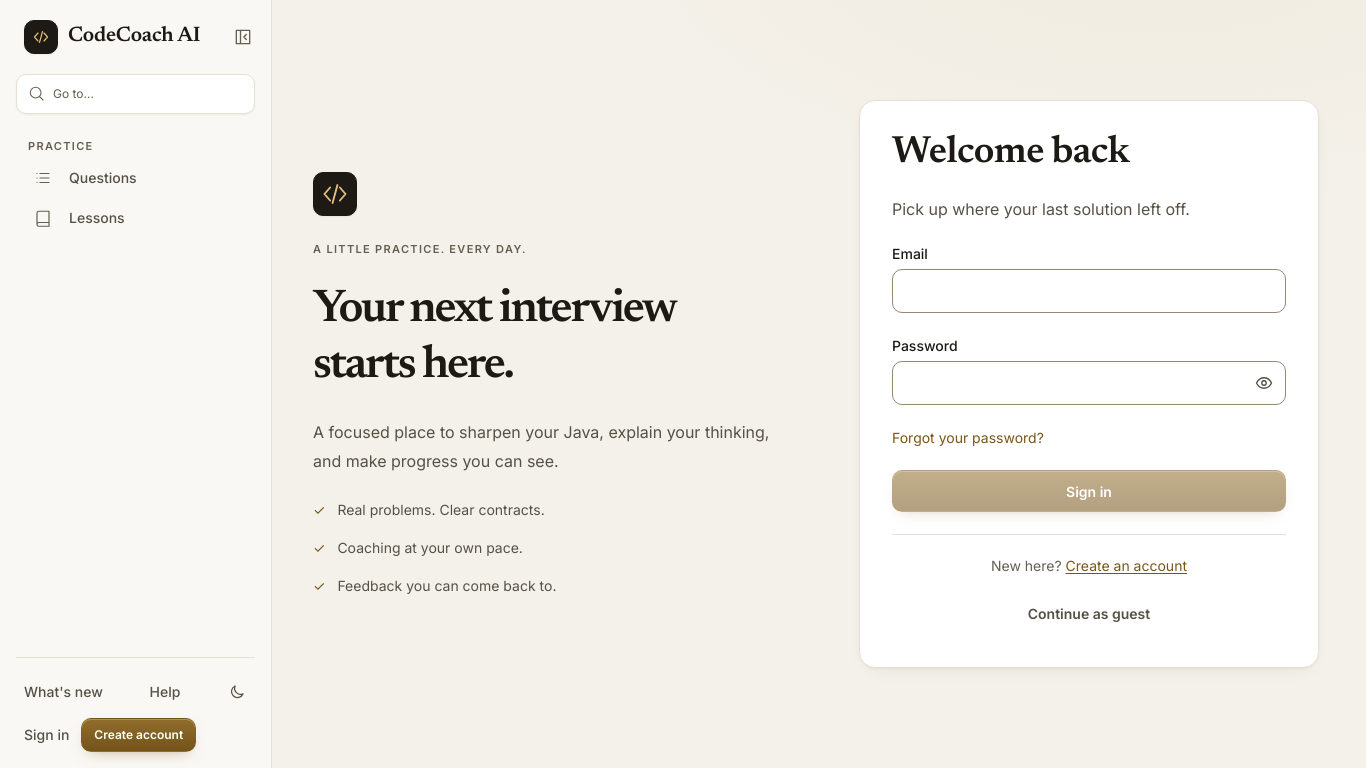
Authentication › shows the generic login error
The image size is (1366, 768).
Type "a@example.com" into the field labelled "Email". click: [1089, 291]
box: [892,269,1286,313]
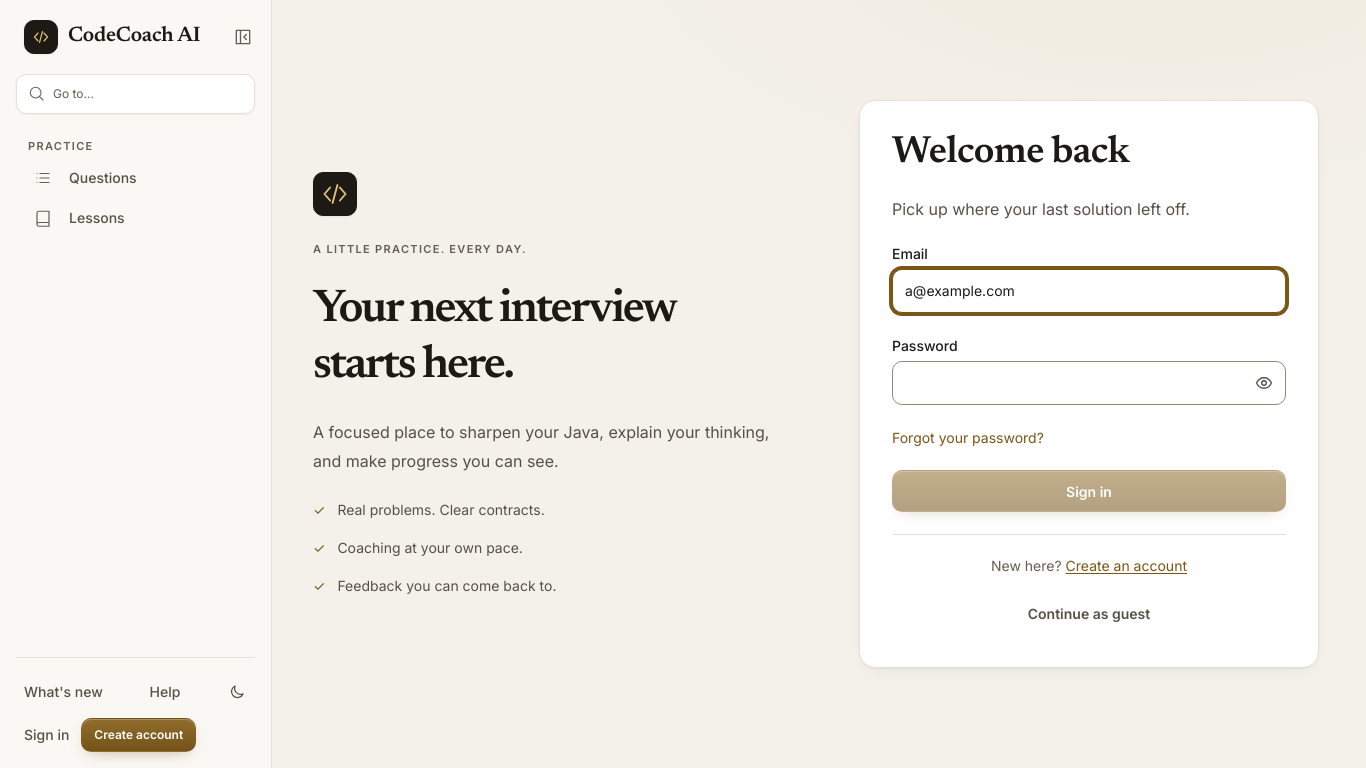
Type "nope" into the password field labelled "Password". click: [1089, 383]
box: [892,361,1286,405]
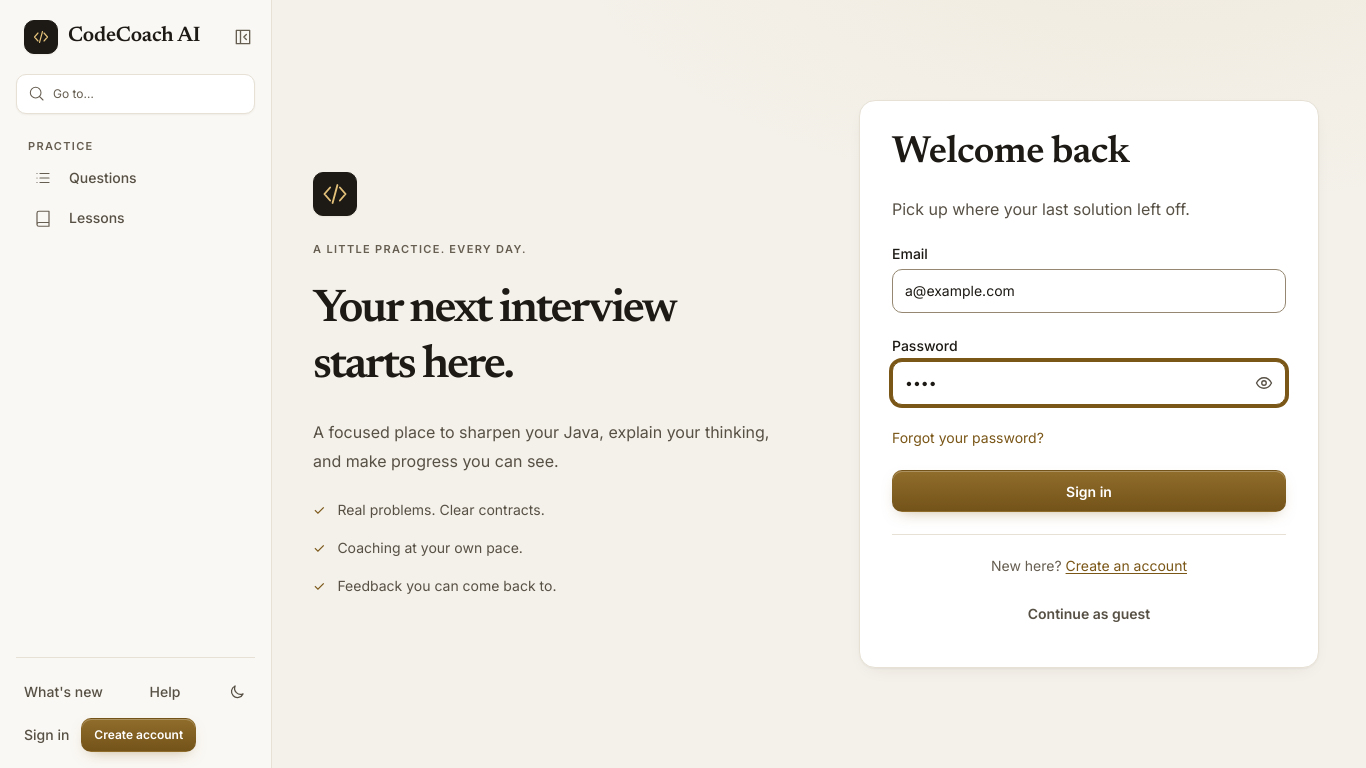
Click the button "Sign in". click: [1089, 492]
box: [892,470,1286,512]
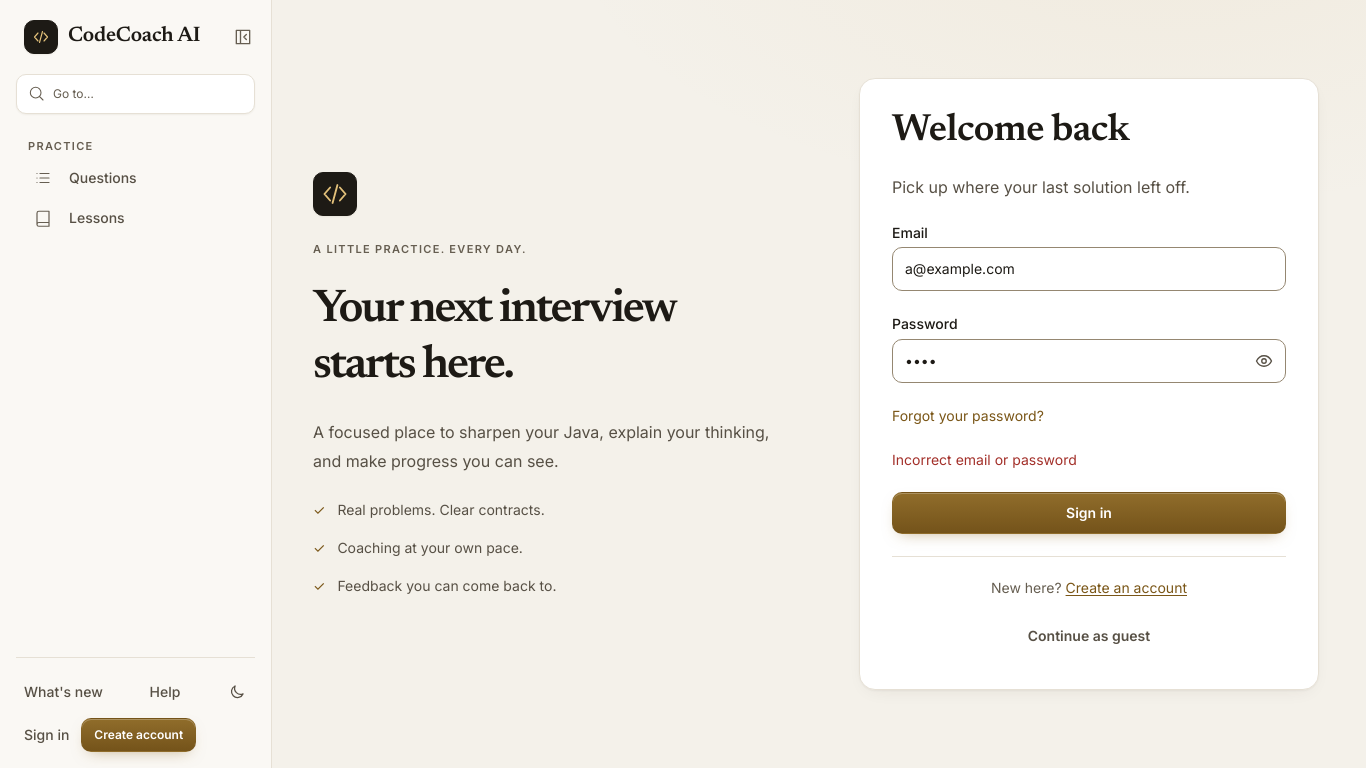
Now the message reads "Incorrect email or password", box [892,451,1077,468]
